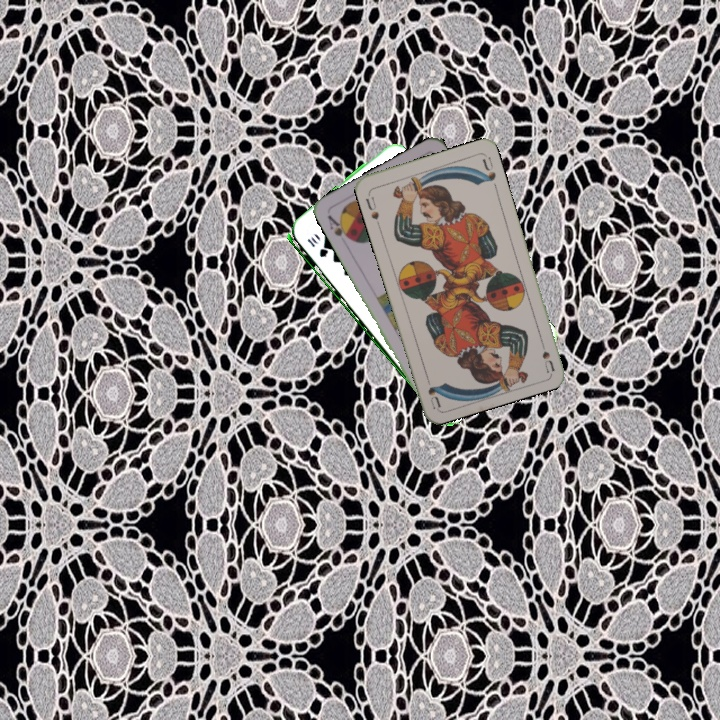G10: (303, 233, 329, 260)
SA: (323, 211, 355, 243)
SU: (536, 333, 557, 374), (362, 189, 383, 229)
